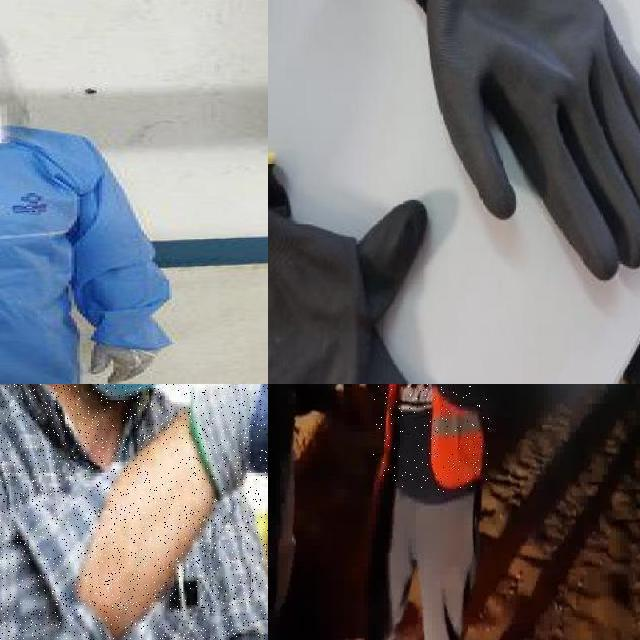GLOVE: (340, 0, 640, 279), (268, 155, 463, 384)
Glove: (80, 340, 172, 384)
VEST: (372, 384, 490, 493)
